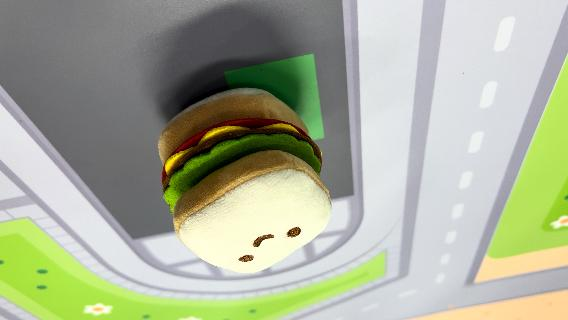sandwich: (155, 84, 335, 274)
